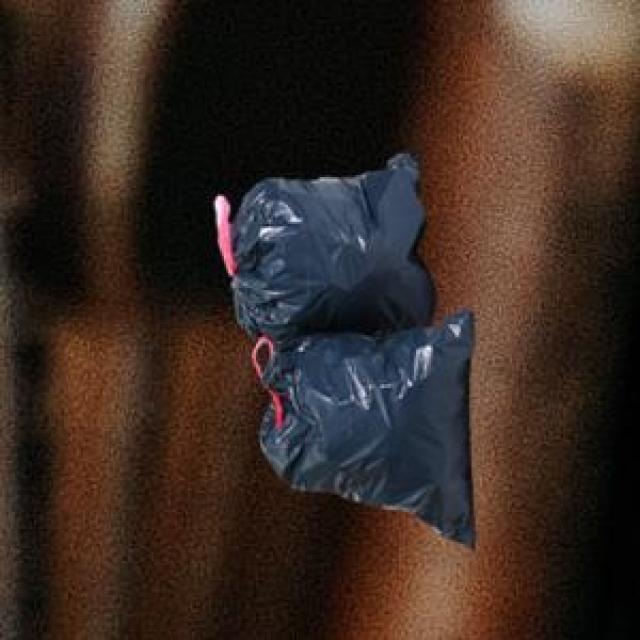Trashbag: (256, 306, 483, 553), (212, 148, 438, 348)
